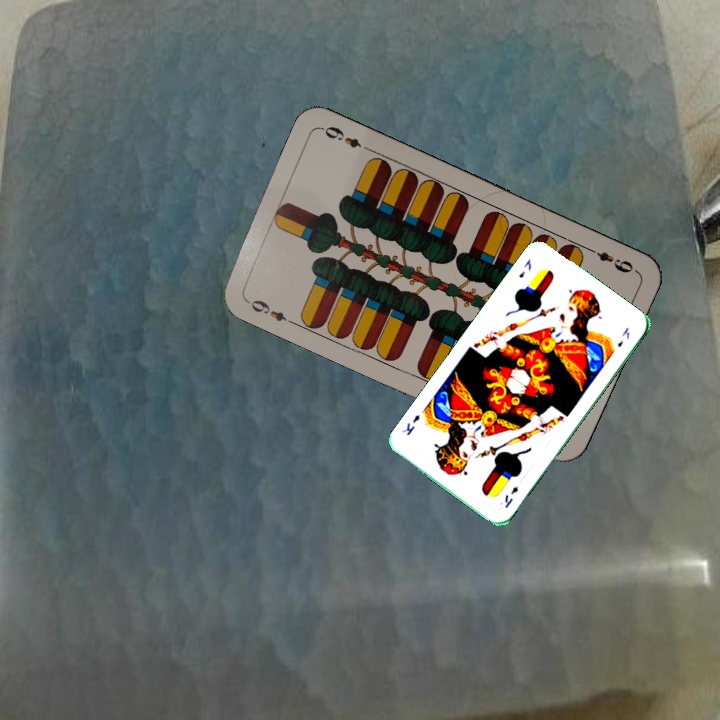E9: (241, 294, 296, 327), (583, 243, 636, 276)
EK: (500, 482, 521, 511), (515, 255, 534, 281)
